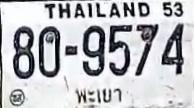0: (38, 26, 60, 78)
4: (161, 22, 184, 74)
5: (108, 24, 132, 76)
7: (134, 23, 158, 76)
8: (12, 25, 34, 79)
9: (83, 25, 105, 75)
PYO: (71, 82, 127, 107)
